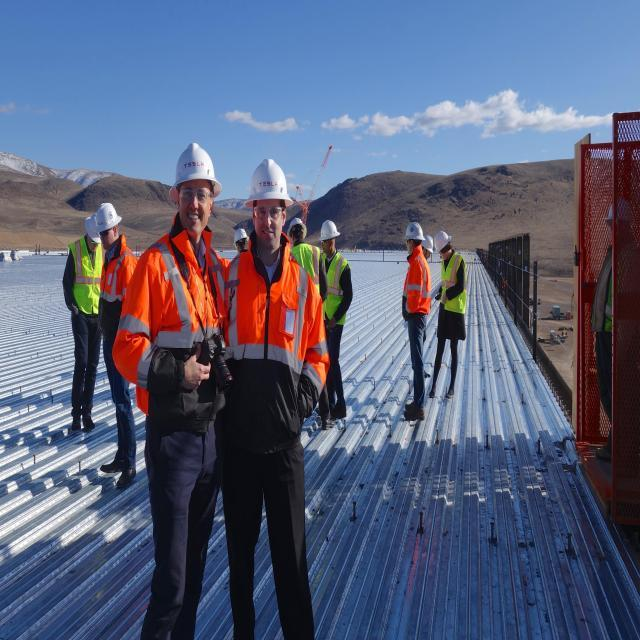white helmet: (170, 140, 226, 197), (246, 157, 298, 209), (95, 201, 123, 236), (319, 220, 347, 248), (84, 212, 104, 245), (287, 217, 314, 239), (437, 229, 459, 255), (403, 222, 426, 245), (231, 224, 251, 245), (423, 235, 440, 257)
